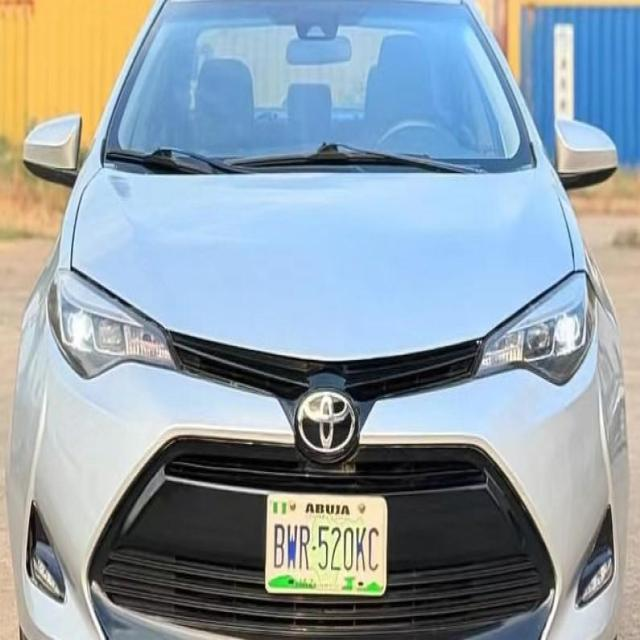Nigerian License Plate - vdataset benjamin-daria: (264, 486, 390, 601)
